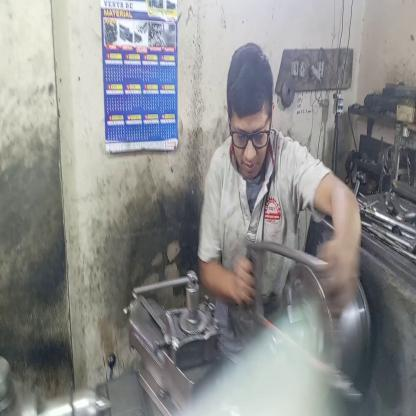lentes: (225, 121, 272, 152)
